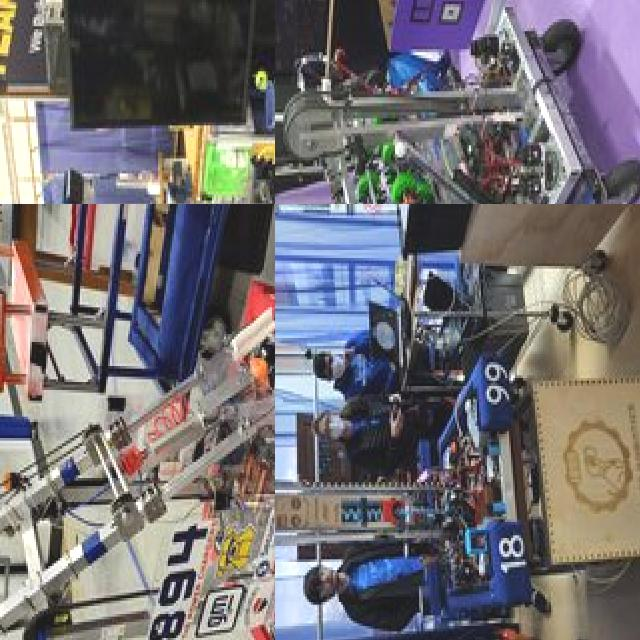FRC-Robots: (0, 257, 275, 640), (275, 336, 525, 640), (275, 0, 562, 204), (13, 0, 275, 204)
